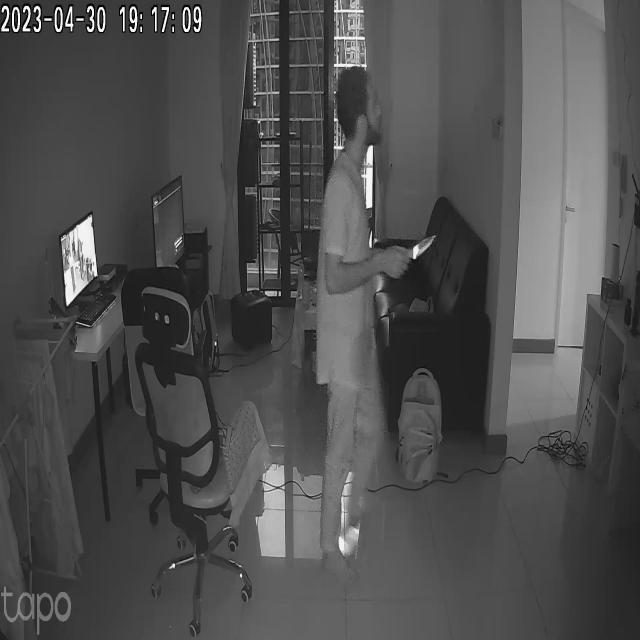Knife: (402, 230, 442, 264)
